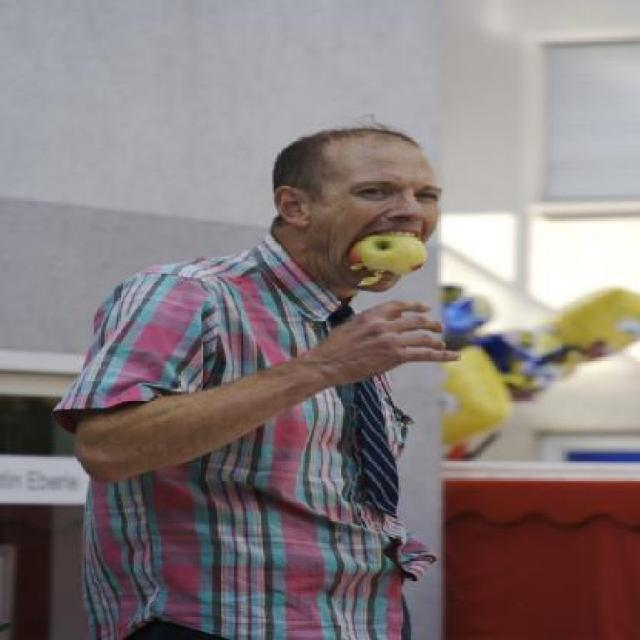Apple pie: (345, 232, 427, 284)
